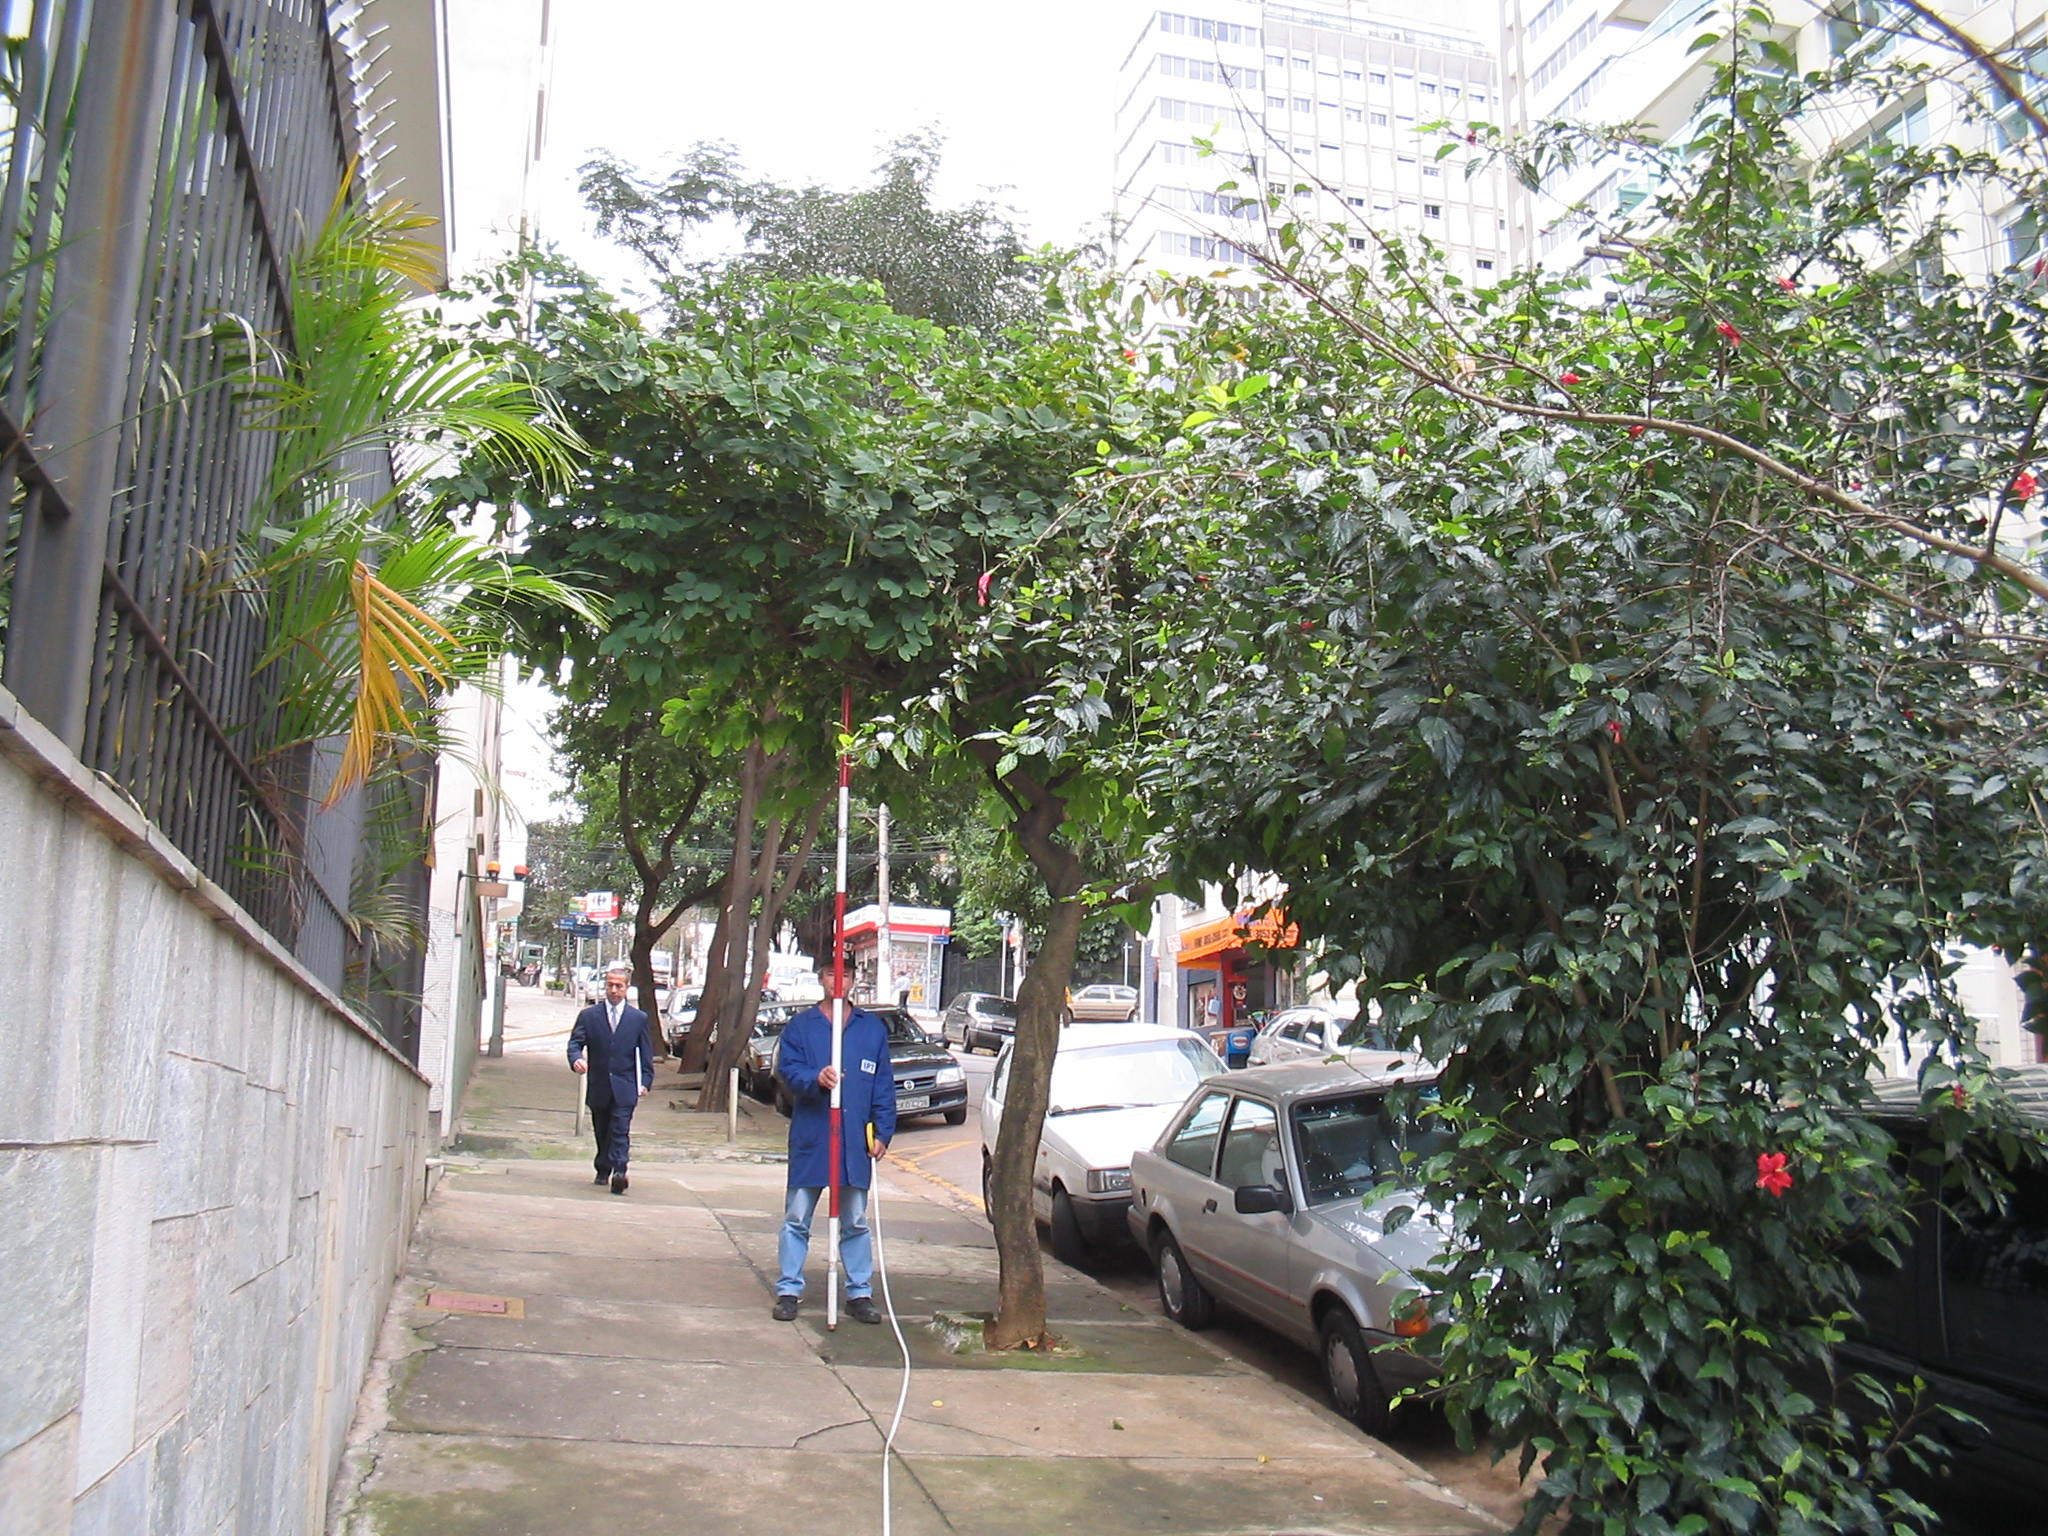crown: (447, 257, 1247, 920)
stem: (968, 900, 1111, 1350)
stick: (803, 687, 877, 1329)
tree: (437, 253, 1251, 1354)
